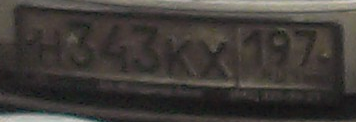character: (66, 17, 97, 73), (99, 20, 131, 72), (130, 21, 160, 75), (199, 34, 232, 82), (162, 34, 196, 80), (290, 24, 320, 74), (35, 25, 65, 69), (266, 24, 292, 70), (243, 23, 266, 69)
